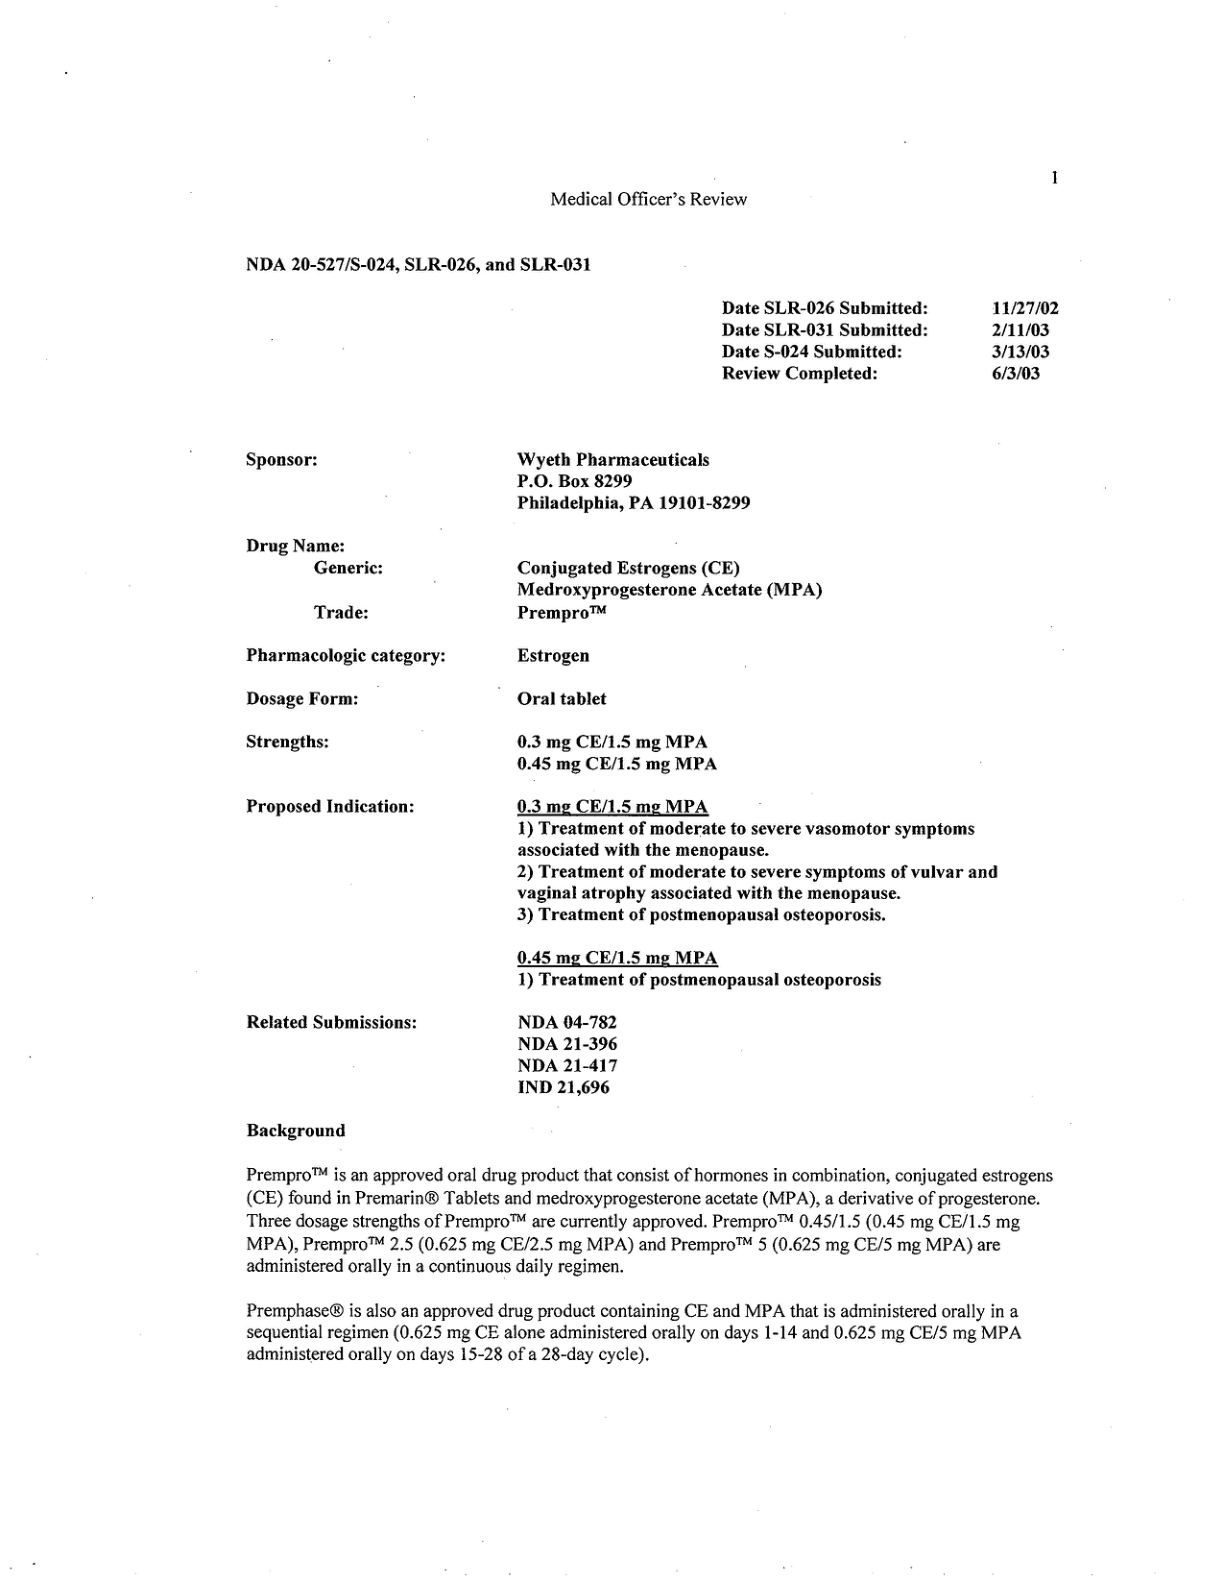nolines: (241, 446, 1002, 1097), (721, 299, 1061, 380)
